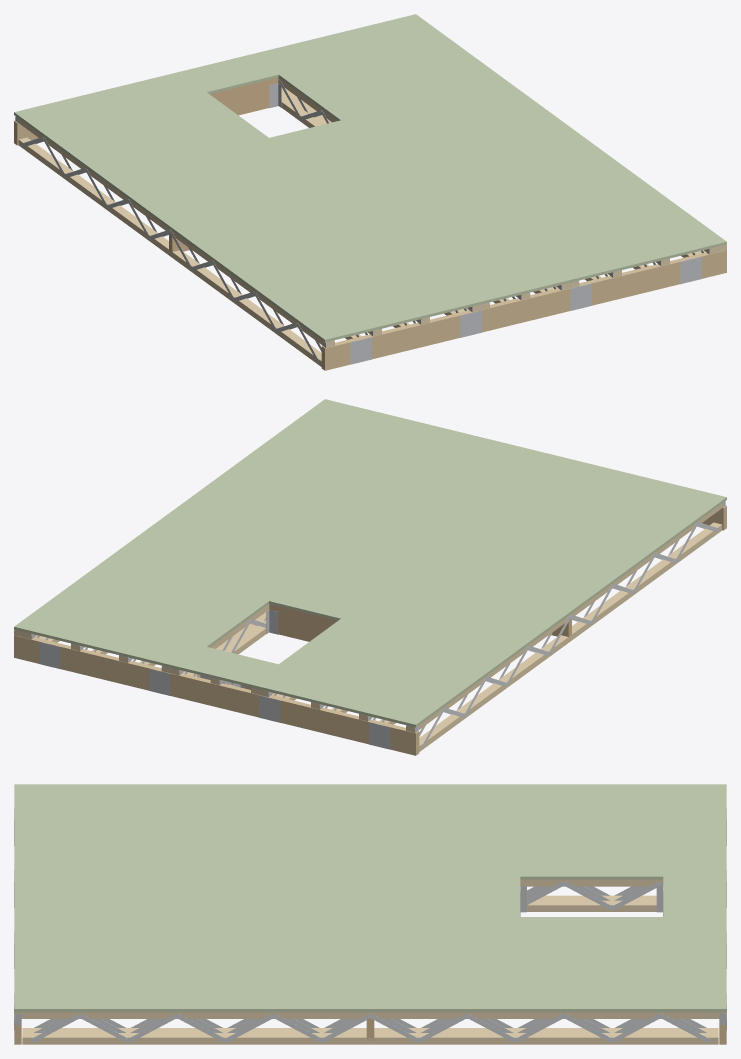
Rendered from stage-3.glb.
The picture shows the model from 3 angles, top to bottom: view 1: azimuth 30°, elevation 25°; view 2: azimuth 150°, elevation 25°; view 3: azimuth 270°, elevation 25°; orthographic projection. The views are drawn at different scales.
Parts seen in each view (by area): view 1: Geom3D (×6); view 2: Geom3D (×6); view 3: Geom3D (×4).
Part boxes in pixels (bbox=[...]): Geom3D (×6): bbox=[14, 14, 726, 370]; Geom3D (×6): bbox=[14, 399, 726, 755]; Geom3D (×4): bbox=[14, 784, 726, 1044].
Bounding box in the file's own units: 3.35 × 0.2489 × 4.49.
